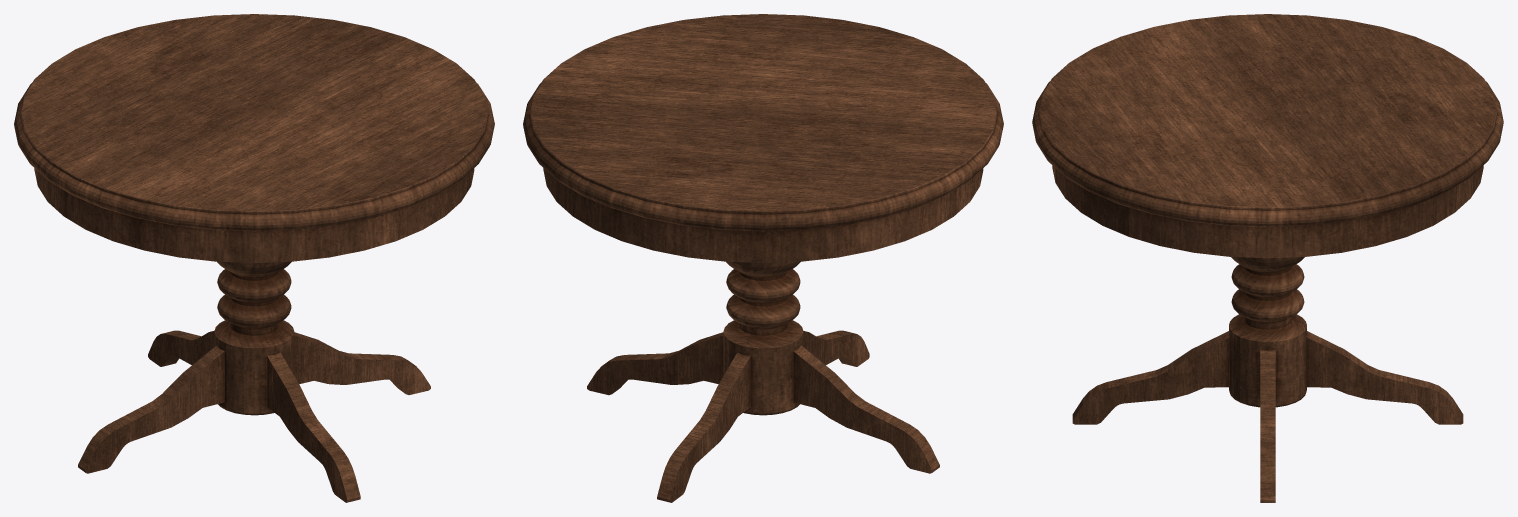
File: table.glb
The picture shows the model from 3 angles, left to right: view 1: azimuth 30°, elevation 25°; view 2: azimuth 150°, elevation 25°; view 3: azimuth 270°, elevation 25°; orthographic projection.
Bounding box in the file's own units: 4.53 × 3.3 × 4.53.
1 material, 1 textured.
